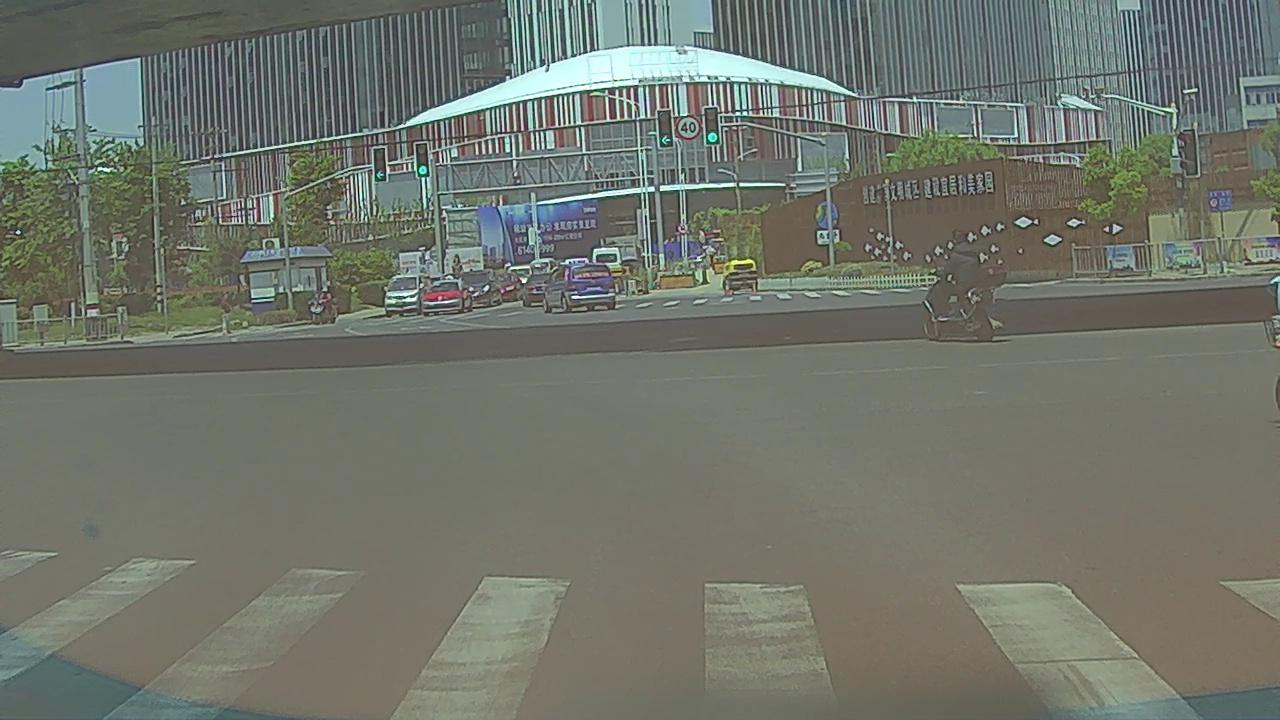traffic_light: (704, 107, 720, 145), (657, 110, 672, 148), (373, 147, 388, 182), (415, 143, 430, 177)
